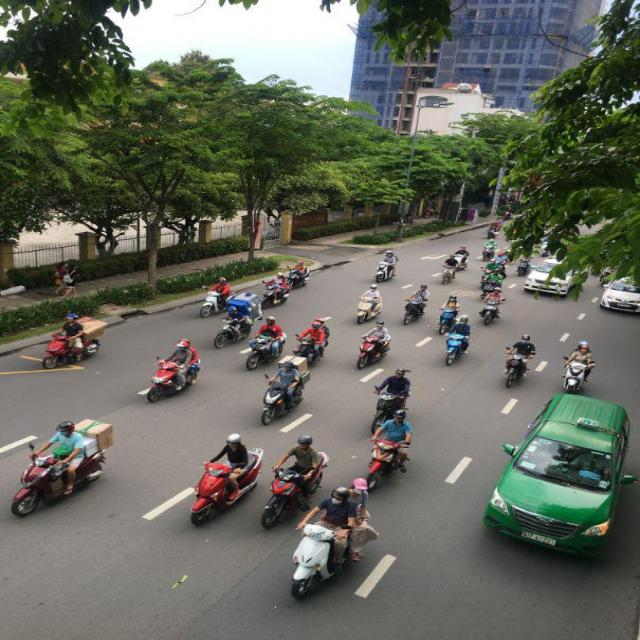car: (482, 392, 628, 558), (600, 278, 640, 314)
motorcycle: (8, 428, 109, 519), (287, 513, 368, 600), (189, 450, 265, 530), (263, 462, 330, 531), (263, 368, 308, 424), (369, 436, 414, 486), (145, 364, 198, 406), (43, 334, 101, 369), (244, 321, 284, 369), (212, 312, 251, 347), (201, 277, 233, 316), (356, 335, 391, 369), (504, 348, 532, 389), (444, 327, 471, 366), (374, 253, 396, 282)
